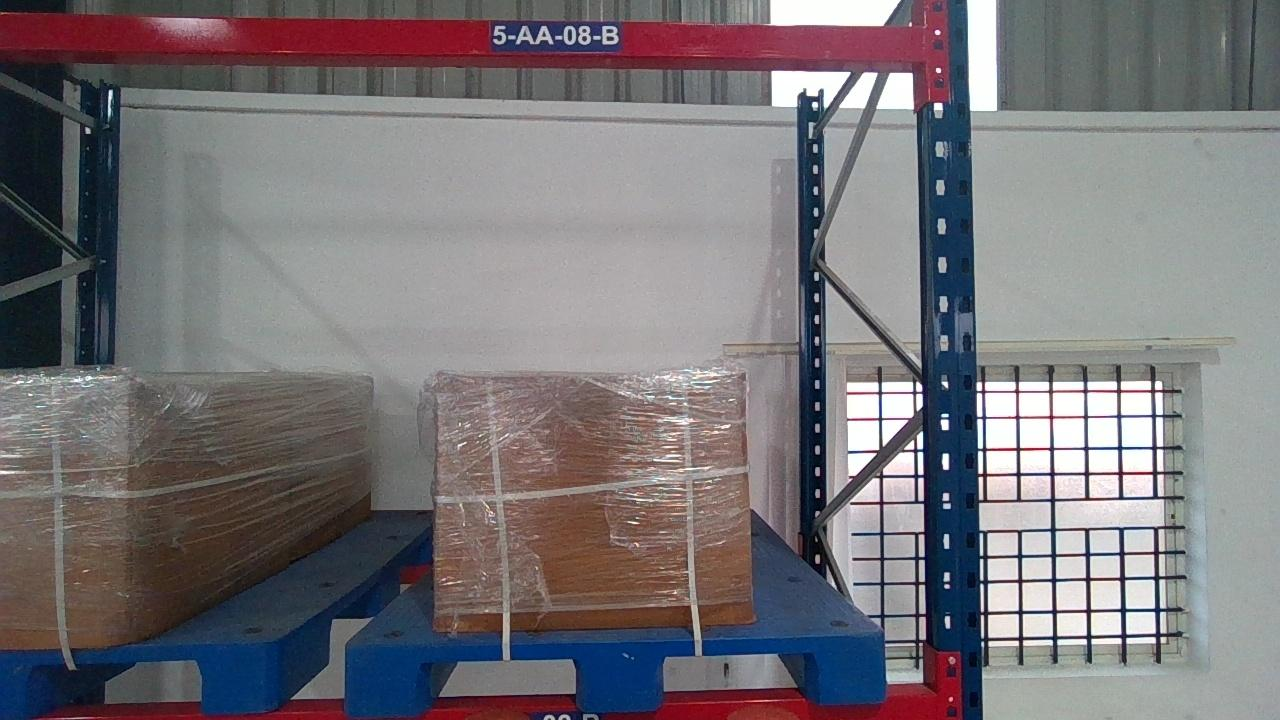h_rack: (0, 14, 928, 62), (232, 686, 939, 719)
small_pallet: (343, 633, 887, 716), (0, 644, 277, 717)
